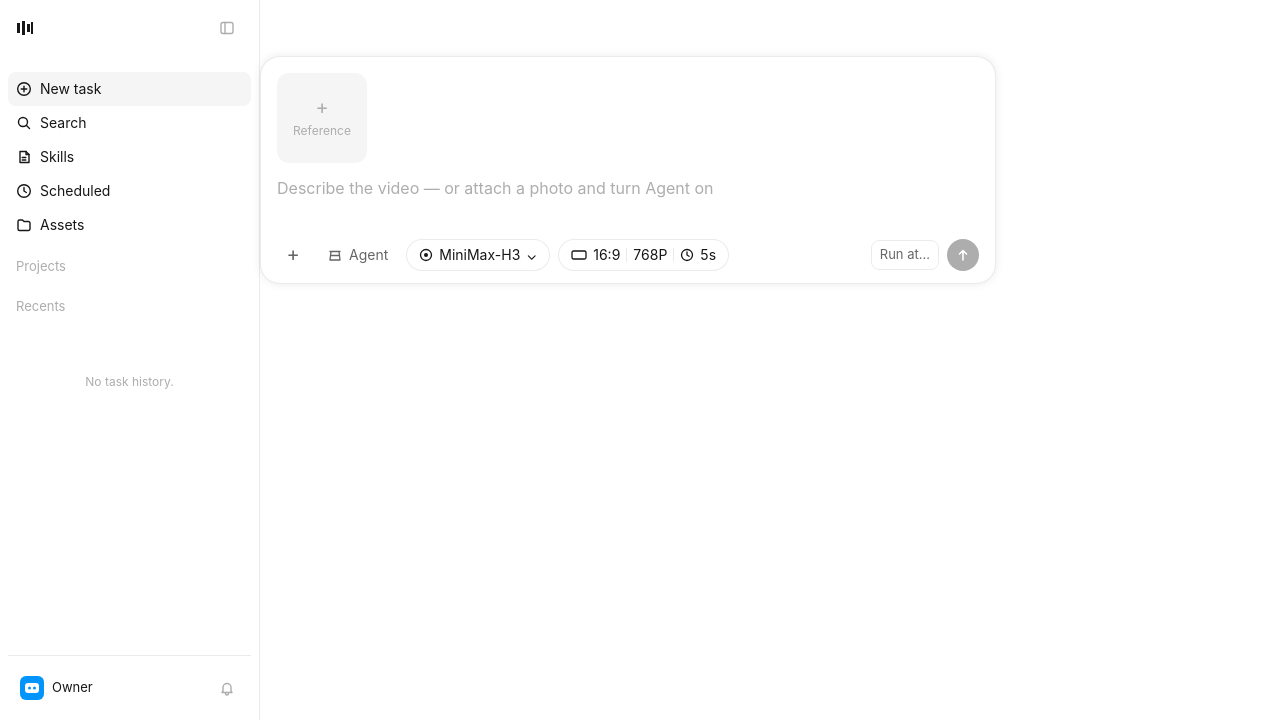
Test: what STORY_026 removed stays removed › on the home (shell + composer, the user menu open)
The width and height of the screenshot is (1280, 720).
Click the button "Owner".
click(58, 688)  # box [16,672,101,704]
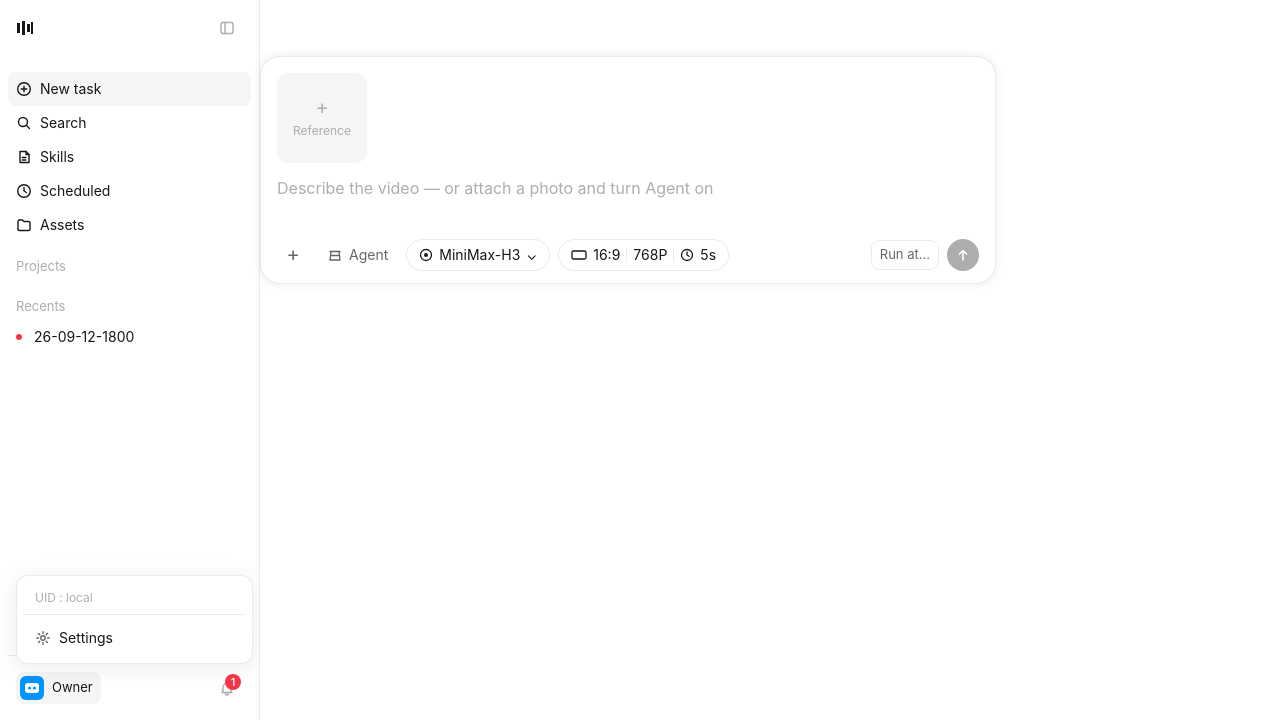
Expected: the menu items read "Settings", in this order, [23,619,246,657]
